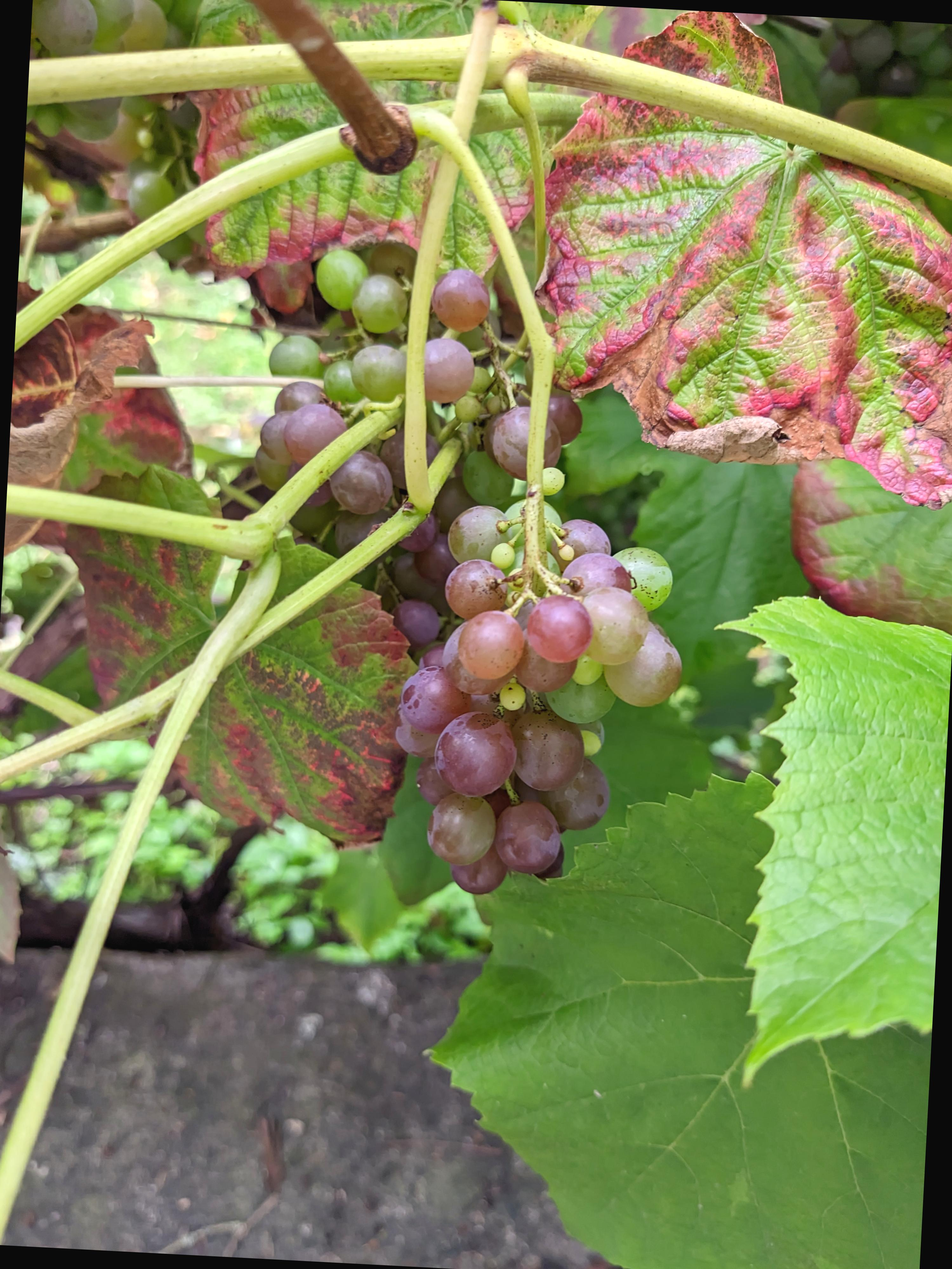Grape Unripe: (278, 209, 619, 631), (420, 464, 725, 889), (58, 0, 237, 113), (840, 0, 952, 102)
